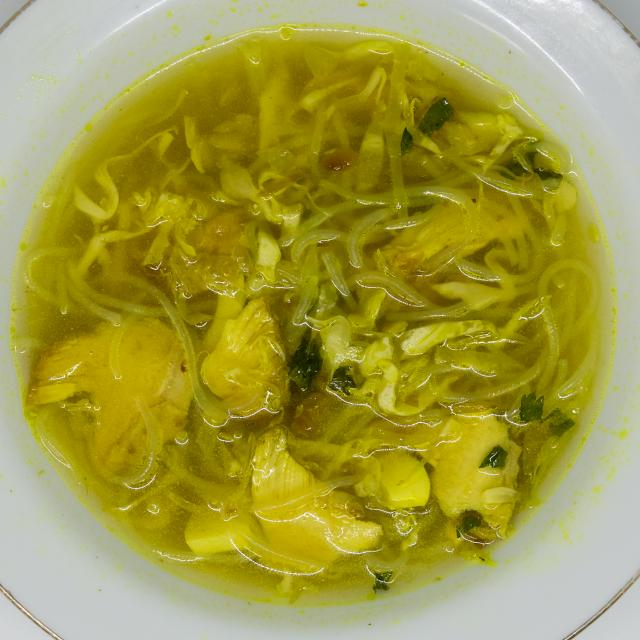Soto-Lamongan: (32, 9, 607, 616)
